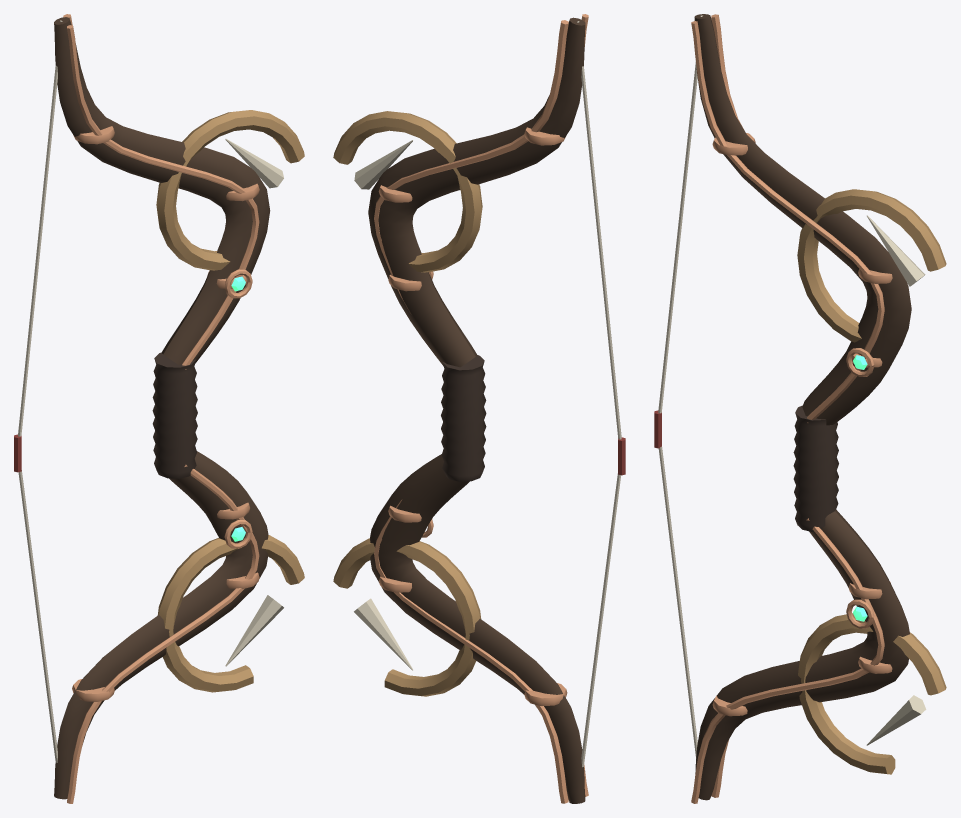
File: artisan_serpent_coil_bow.glb
3 renders of one model, left to right at view 1: azimuth 30°, elevation 25°; view 2: azimuth 150°, elevation 25°; view 3: azimuth 330°, elevation 25°, orthographic.
Visible parts, largest first — view 1: artisan_serpent_coil_bow; view 2: artisan_serpent_coil_bow; view 3: artisan_serpent_coil_bow.
Boxes of the visible parts, x1,y1,x2,y2 form: artisan_serpent_coil_bow: [14, 14, 304, 803]; artisan_serpent_coil_bow: [333, 14, 625, 803]; artisan_serpent_coil_bow: [654, 14, 946, 803].
Size of the model in its own units: 0.4604 by 1.18 by 0.0643.
